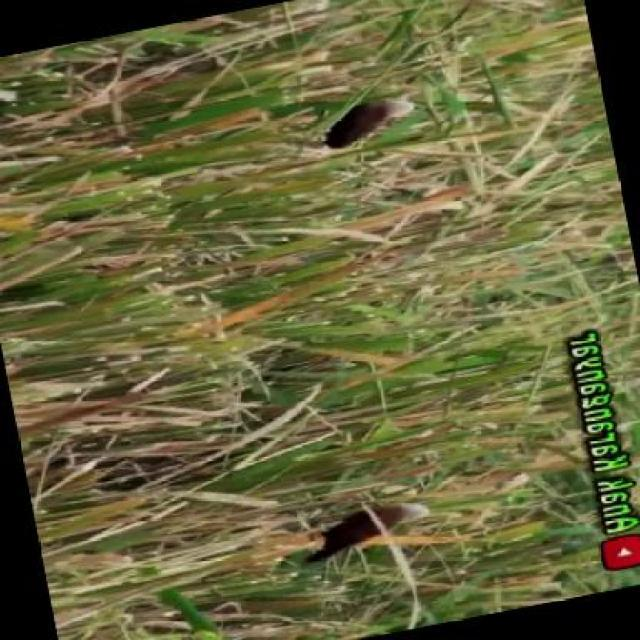Bird: (312, 492, 430, 571), (324, 85, 421, 157)
